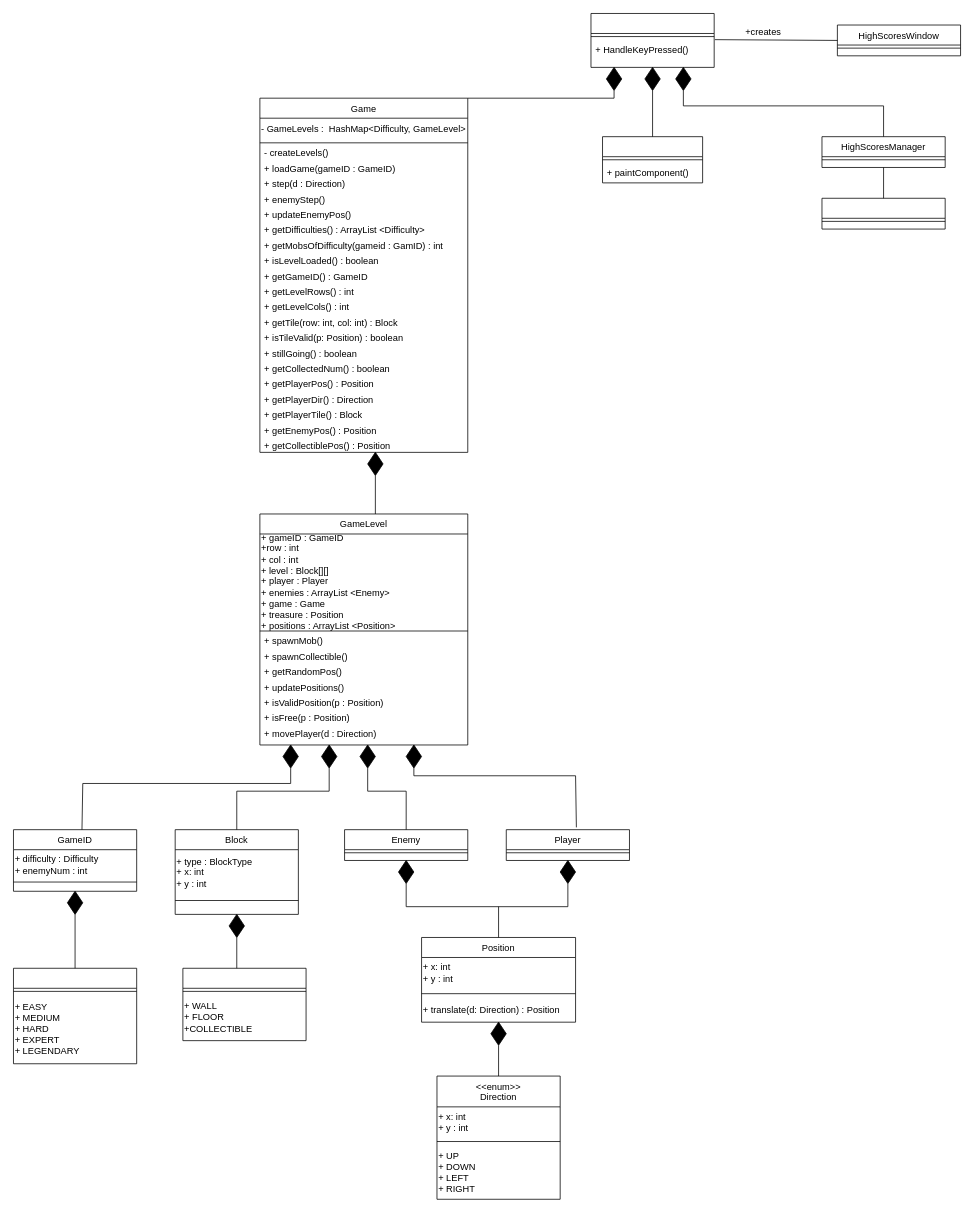
Some shapes in this 974 by 1213 pixel diagram are drawn without their labels. Each missing label, with the box of its shape:
BlockType: (182, 968, 306, 1041)
Board: (602, 136, 703, 183)
Database: (821, 198, 945, 229)
Difficulty: (13, 968, 137, 1064)
MainWindow: (590, 13, 714, 67)
